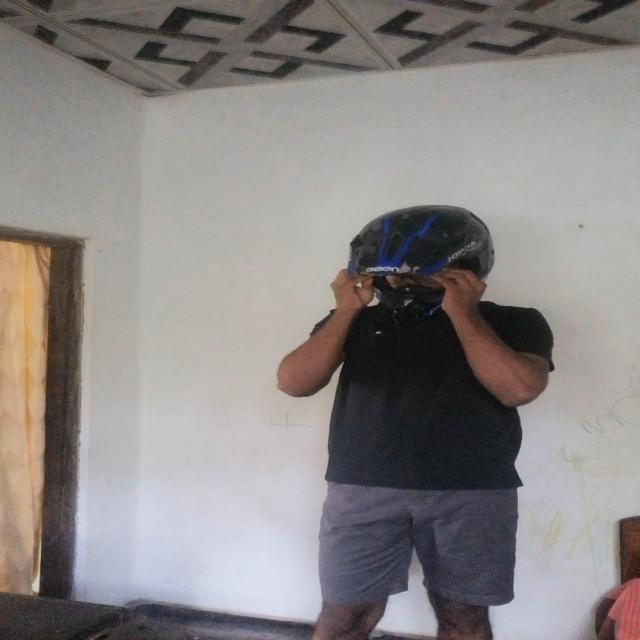Helmet_Wearer: (322, 200, 508, 329)
Person: (264, 198, 554, 635)
